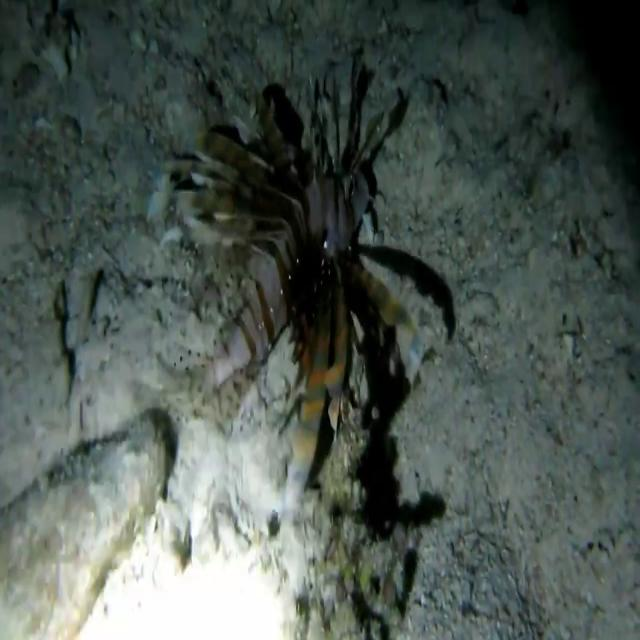Aslan Baligi: (159, 45, 457, 495)
